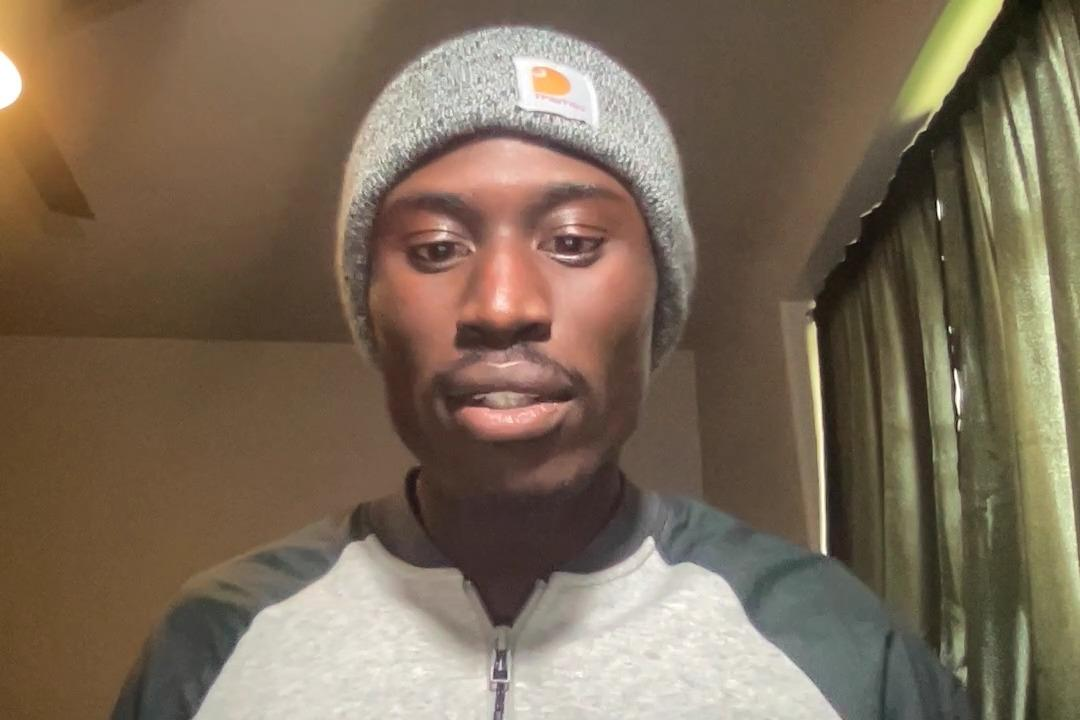face: (349, 125, 663, 513)
